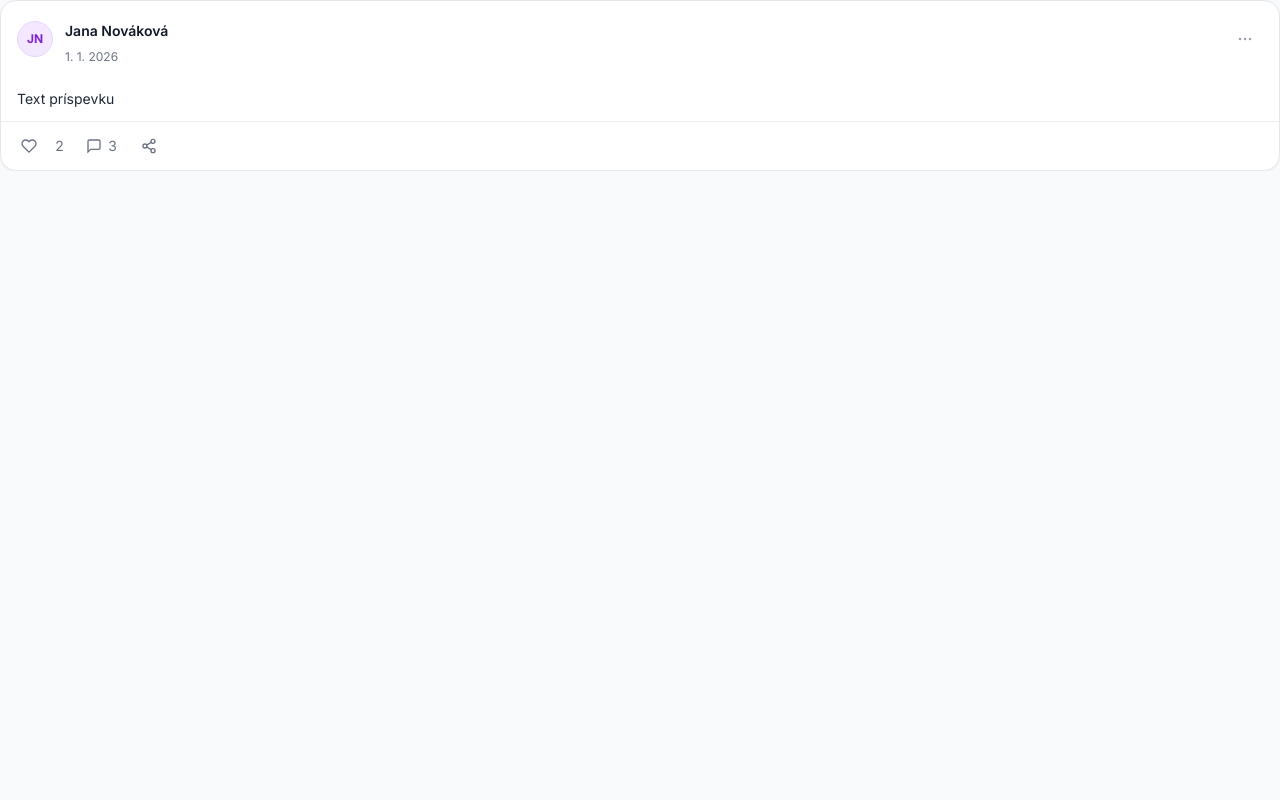
Test: rozloženie obrazovky › drops the photo section entirely for a text-only post
Click the button with test id "feed-comments-button" at (102, 146), box [78,128,125,164]
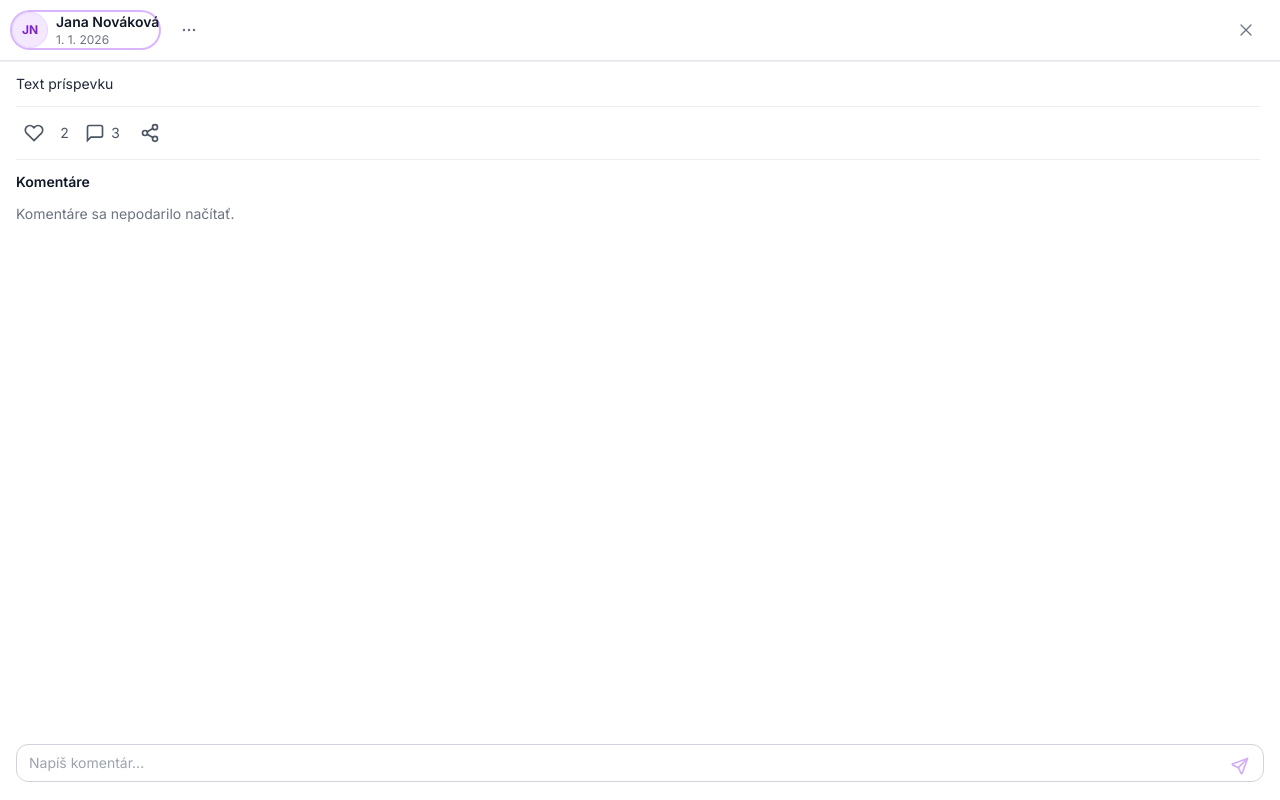
Expected: the text "Text príspevku" is shown, [16,75,113,92]
